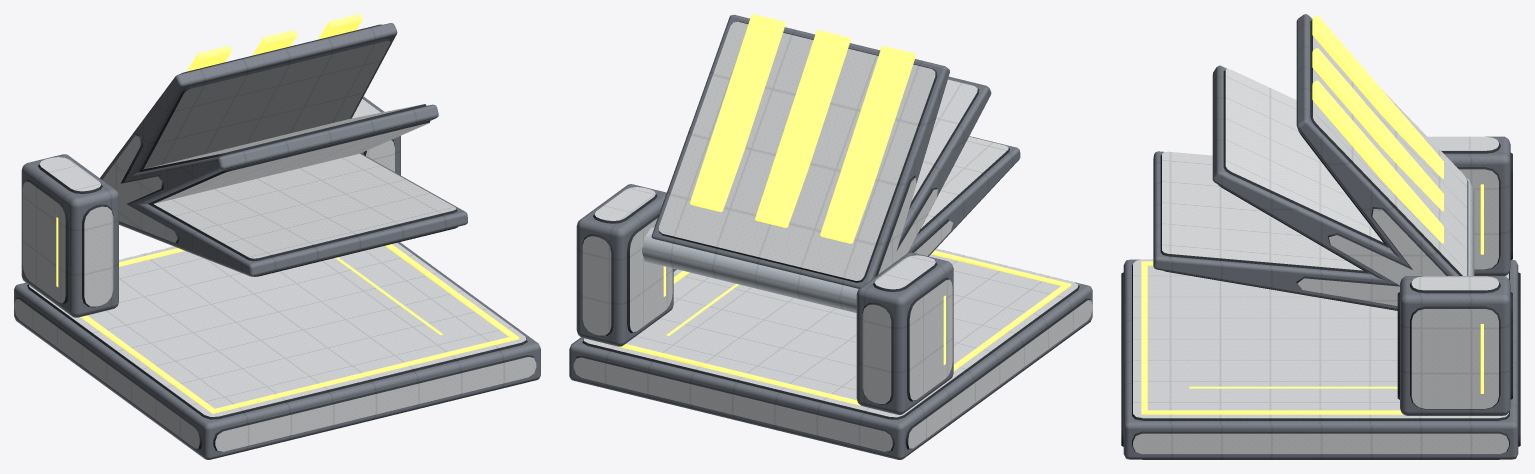
The model's file is R4X_RampDeployer.glb.
The picture shows the model from 3 angles, left to right: view 1: azimuth 30°, elevation 25°; view 2: azimuth 150°, elevation 25°; view 3: azimuth 270°, elevation 25°; orthographic projection. The views are drawn at different scales.
Visible parts, largest first — view 1: R4X_RampDeployer_Body; view 2: R4X_RampDeployer_Body; view 3: R4X_RampDeployer_Body.
Part boxes in pixels (x1,y1,x2,y2): R4X_RampDeployer_Body: (14, 14, 540, 459); R4X_RampDeployer_Body: (569, 14, 1092, 459); R4X_RampDeployer_Body: (1121, 14, 1520, 459).
Size of the model in its own units: 0.52 by 0.4673 by 0.52.
Materials: 5 (4 with a texture image).
